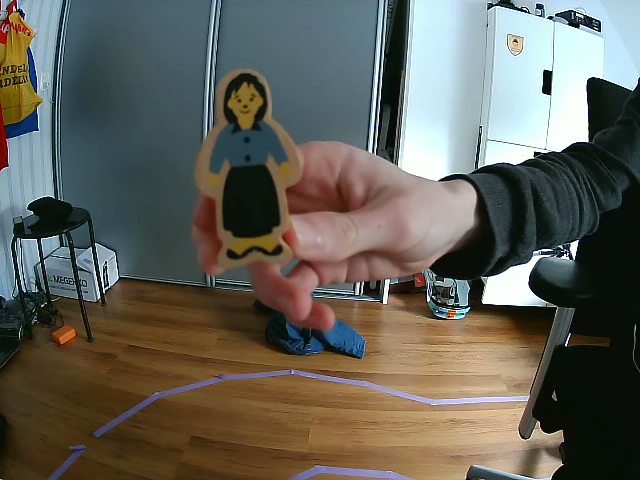mens: (183, 68, 305, 264)
